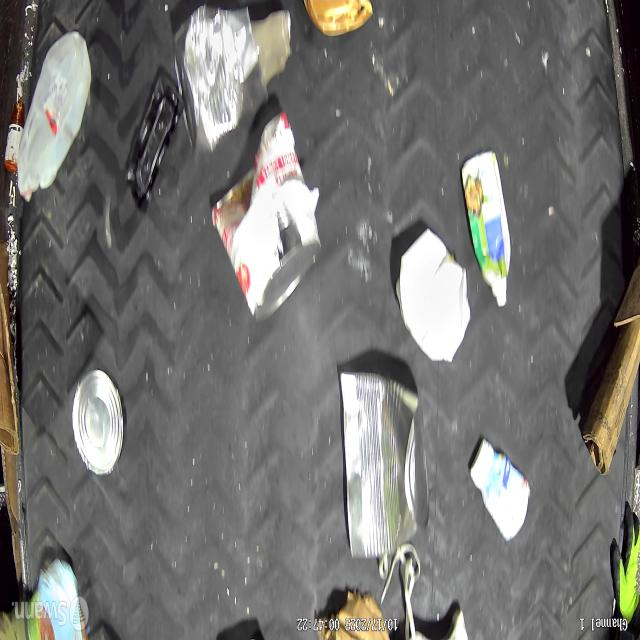can: (209, 108, 322, 328), (337, 367, 429, 563), (172, 0, 269, 156), (70, 365, 122, 475)
milk_jug: (15, 31, 94, 201)
